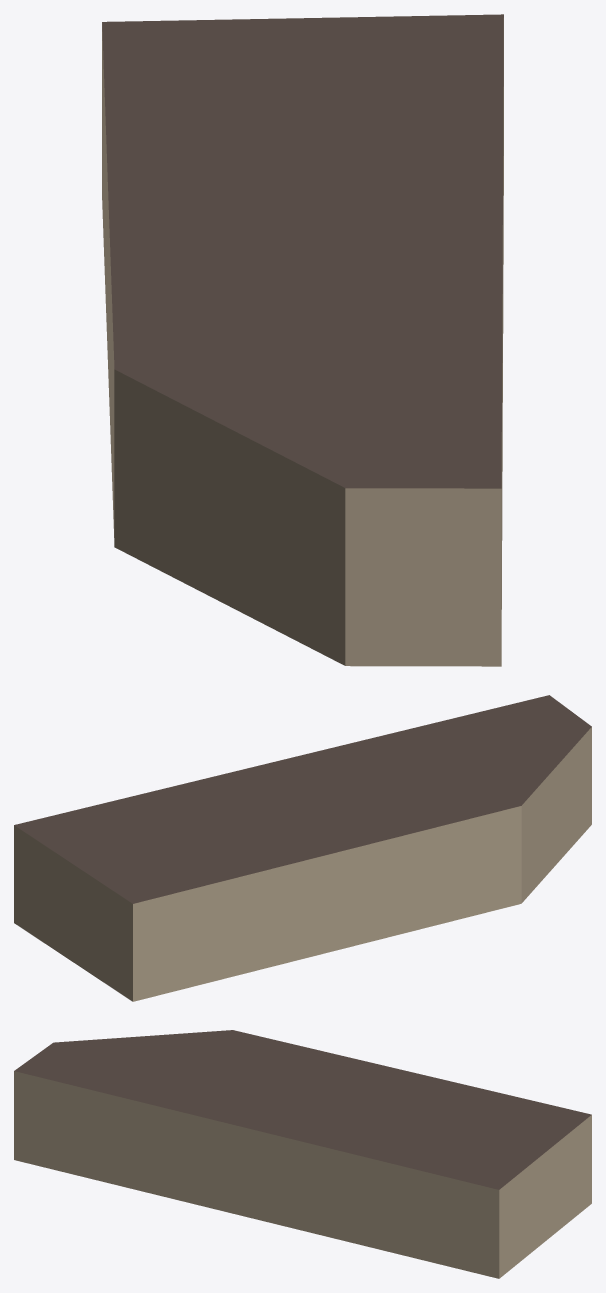
3 renders of one model, top to bottom at view 1: azimuth 30°, elevation 25°; view 2: azimuth 150°, elevation 25°; view 3: azimuth 270°, elevation 25°, orthographic. The views are drawn at different scales.
Visible parts, largest first — view 1: HP-w298243643; view 2: HP-w298243643; view 3: HP-w298243643.
Boxes of the visible parts, x1=… form: HP-w298243643: x1=102, y1=14, x2=503, y2=666; HP-w298243643: x1=14, y1=695, x2=591, y2=1001; HP-w298243643: x1=14, y1=1030, x2=591, y2=1278.
Size of the model in its own units: 34.7 by 9 by 52.99.
